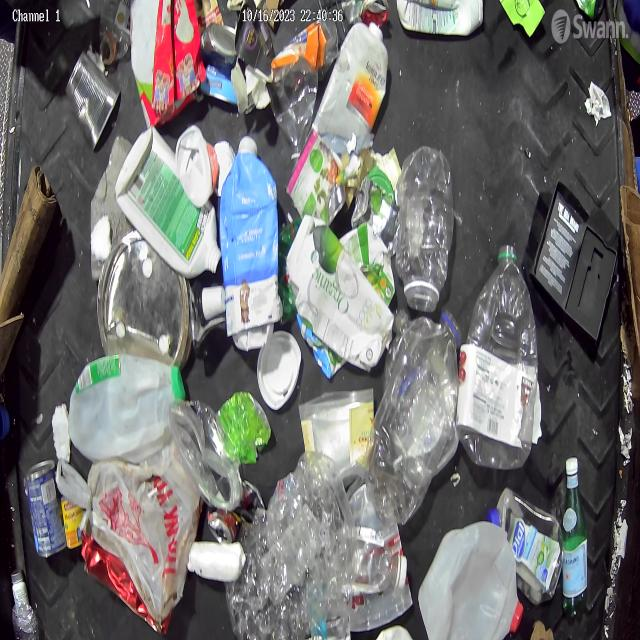can: (285, 126, 347, 226), (64, 46, 120, 152), (26, 459, 66, 557), (351, 176, 399, 256), (208, 482, 262, 544), (201, 21, 235, 67)
milk_jug: (420, 518, 520, 639), (68, 355, 183, 460)
non_white_jug: (285, 215, 395, 372), (116, 124, 221, 280), (220, 136, 279, 338), (486, 487, 564, 605), (312, 22, 388, 132), (396, 0, 484, 36)
plastic_bottle: (365, 310, 461, 525), (458, 245, 538, 469), (399, 146, 455, 313), (352, 526, 408, 592), (12, 601, 39, 640)
